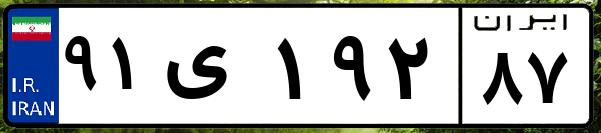1: (270, 28, 330, 110), (110, 28, 158, 98)
2: (385, 28, 445, 110)
7: (525, 38, 570, 115)
8: (475, 38, 525, 113)
9: (330, 28, 385, 110), (57, 26, 110, 100)
ی: (158, 20, 270, 120)
